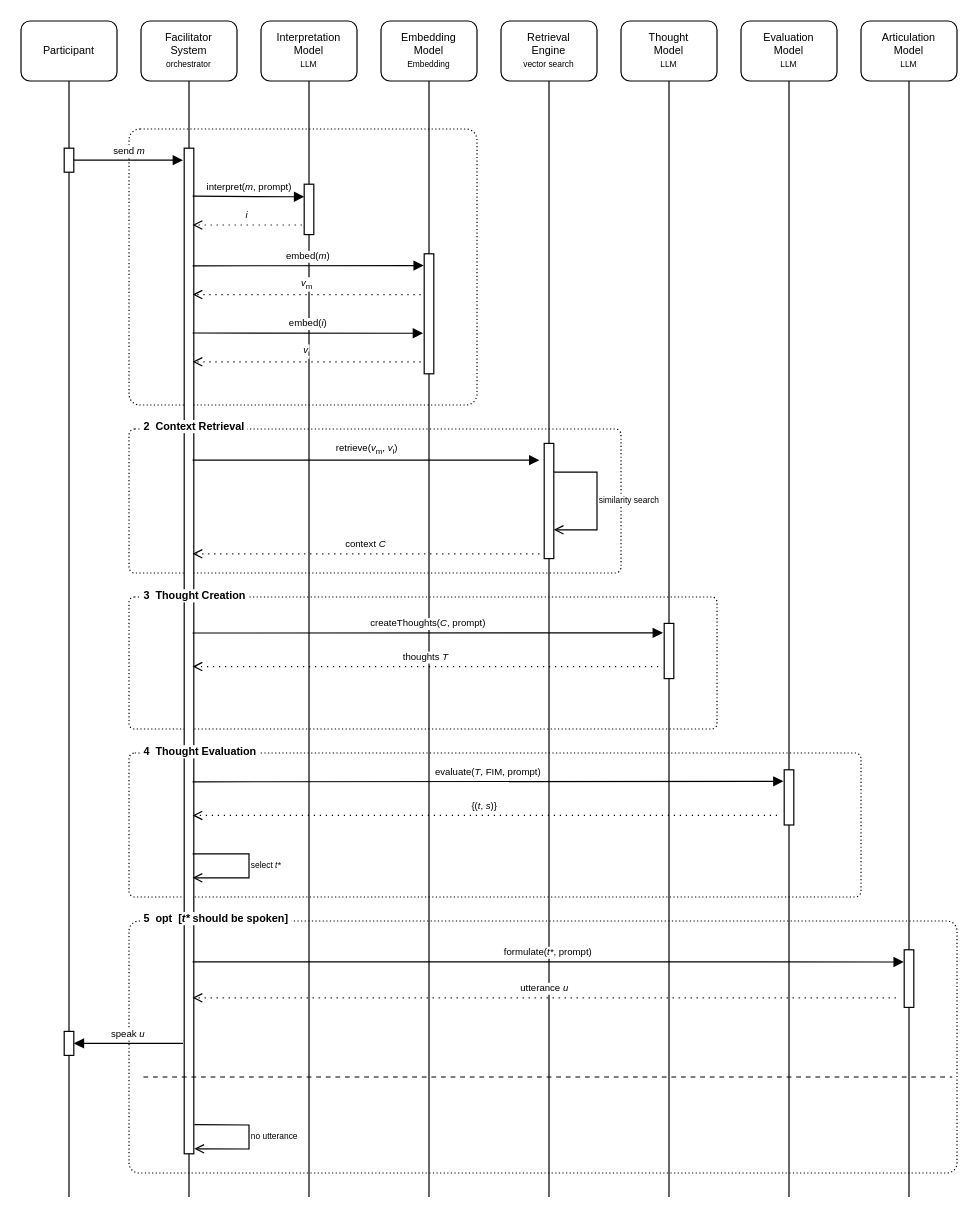
Image size: 978x1219. Some labels were removed from this diagram. The shapes that lost their labels are listed below. From the top down, each one's centre as x and y in pixels, then its label:
At point (302, 266): "1 Interpretation and Embedding".
At point (542, 1046): "[else] remain silent".
